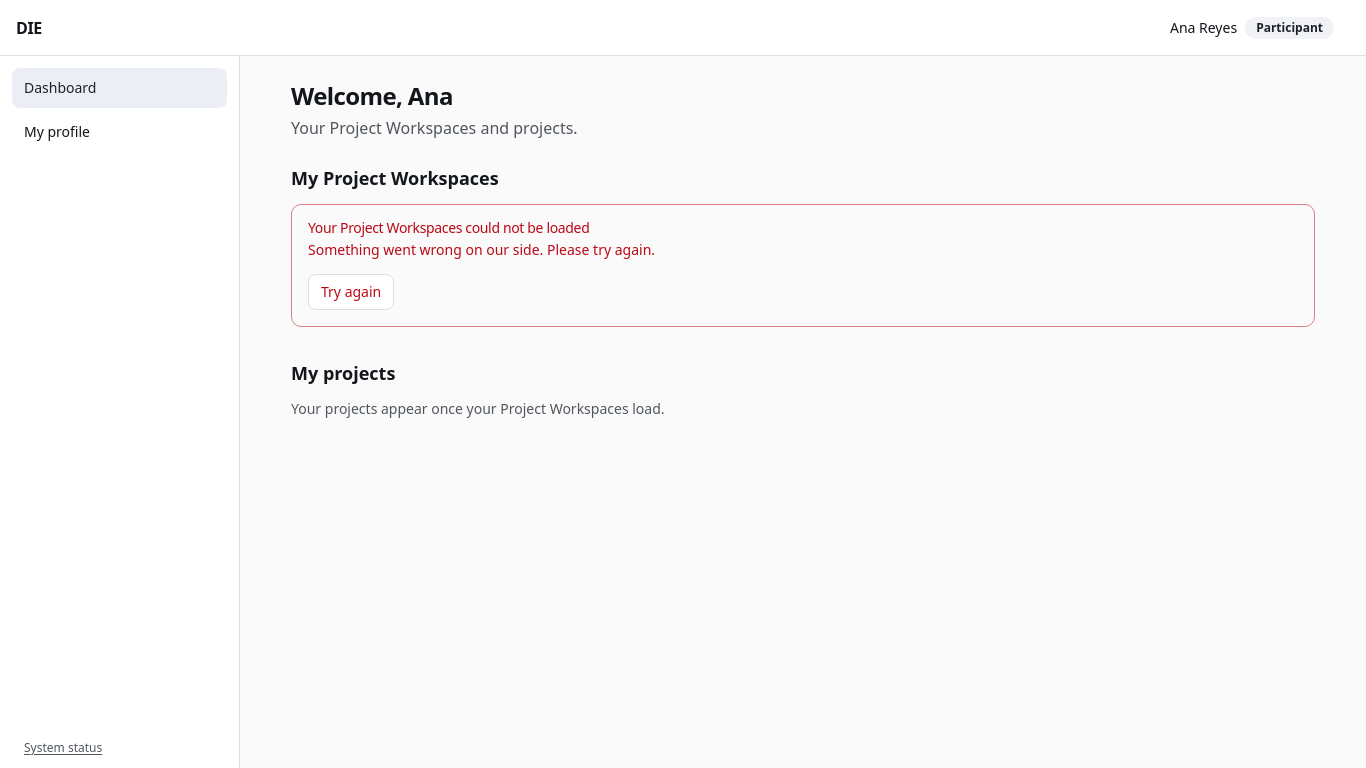
Test: Participant dashboard › shows an error with retry for the workspace list, and recovers
Expected: the heading "Your Project Workspaces could not be loaded" is shown, [308,218,589,237]
Click the button "Try again" at coordinates (351, 292), box [308,274,394,310]
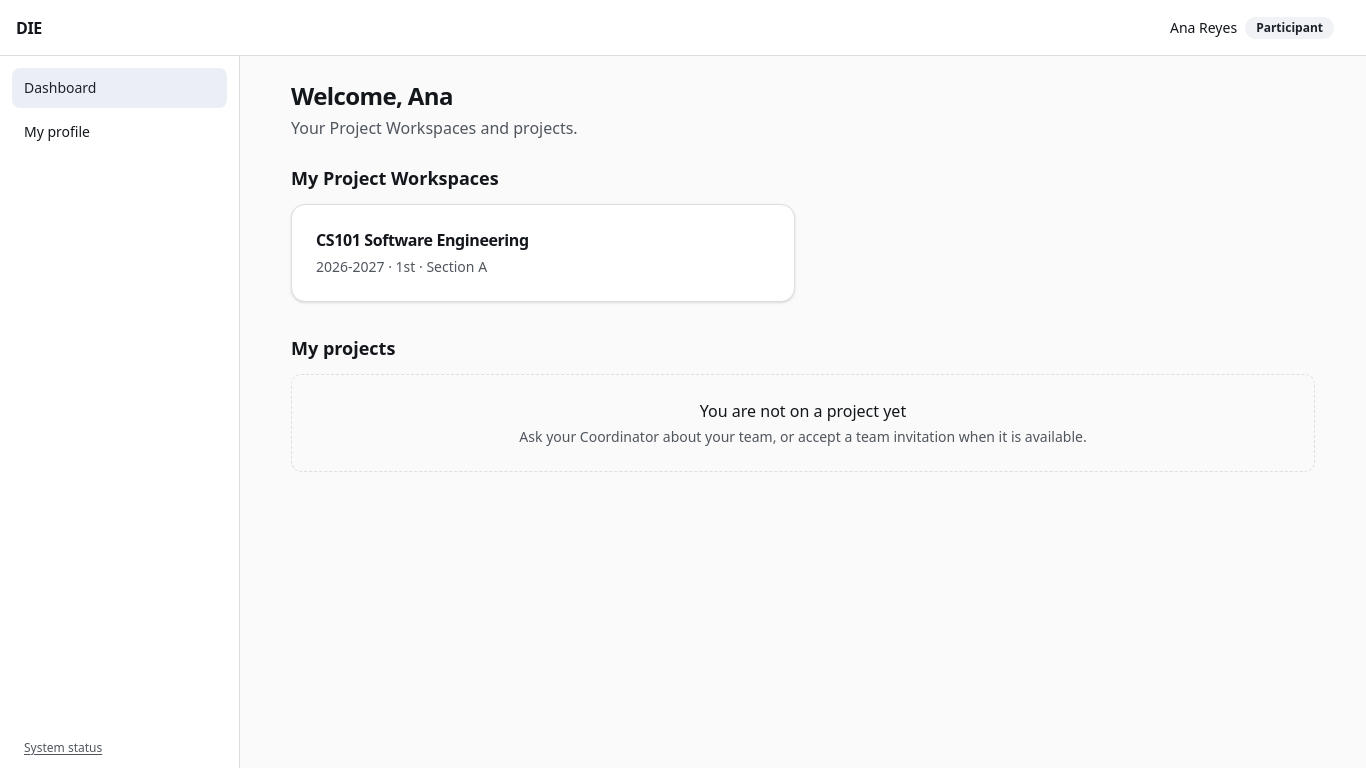
Expected: the link "CS101 Software Engineering" is shown, [316,229,529,251]
